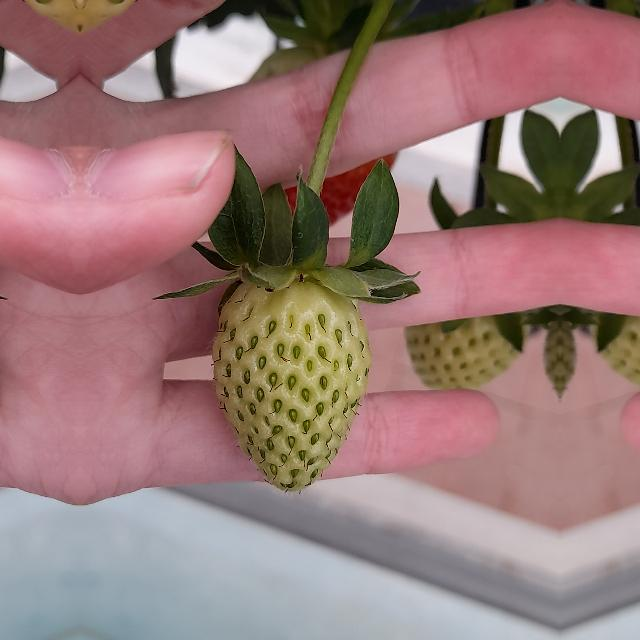Health_25: (212, 277, 371, 491)
